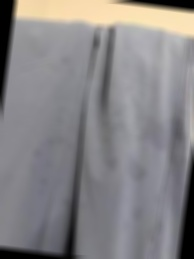oil: (31, 134, 79, 161), (122, 153, 155, 185), (30, 171, 52, 199), (127, 200, 150, 222), (38, 155, 60, 173)
